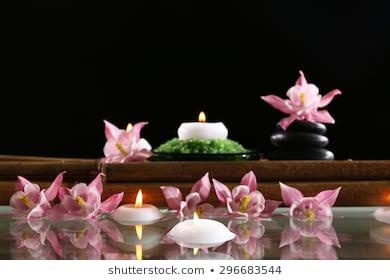fire: (133, 186, 143, 206), (190, 209, 201, 223)
